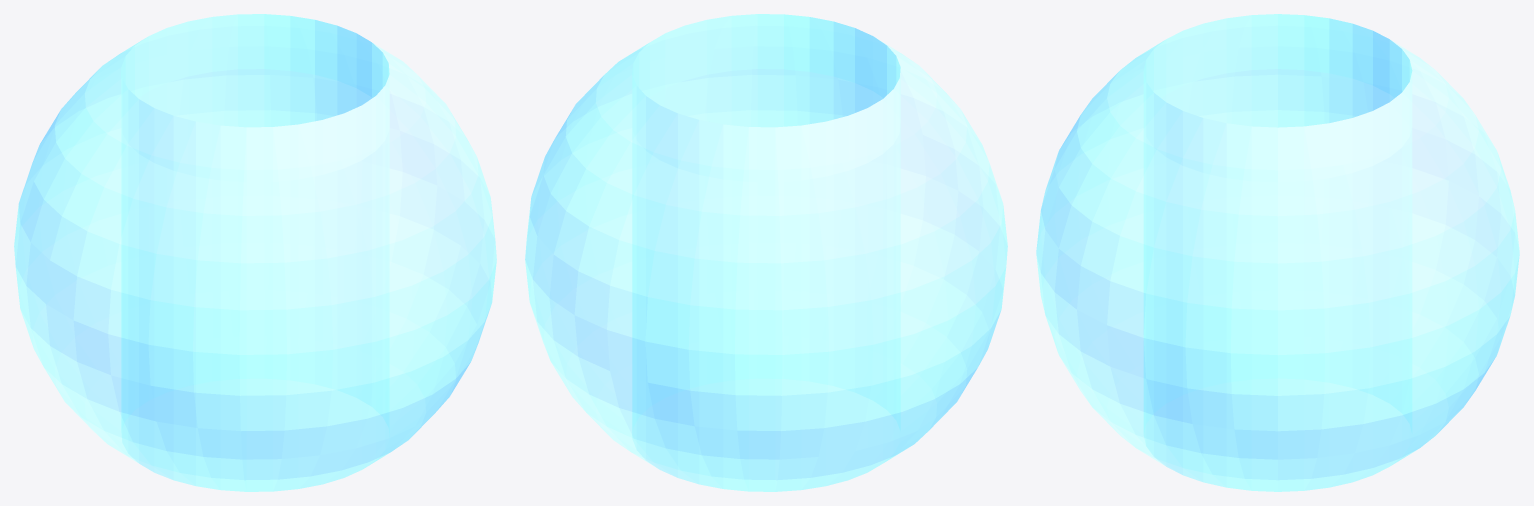
The model's file is hint_wood_ball.fbx.
3 renders of one model, left to right at view 1: azimuth 30°, elevation 25°; view 2: azimuth 150°, elevation 25°; view 3: azimuth 270°, elevation 25°, orthographic.
Visible parts, largest first — view 1: Sphere; view 2: Sphere; view 3: Sphere.
Part boxes in pixels (<box>): Sphere: <box>14,14,496,491</box>; Sphere: <box>525,14,1007,491</box>; Sphere: <box>1036,14,1519,491</box>.
Bounding box in the file's own units: 200 × 166 × 200.
